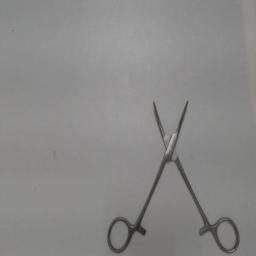Crile Artery Forceps: (104, 92, 242, 254)
